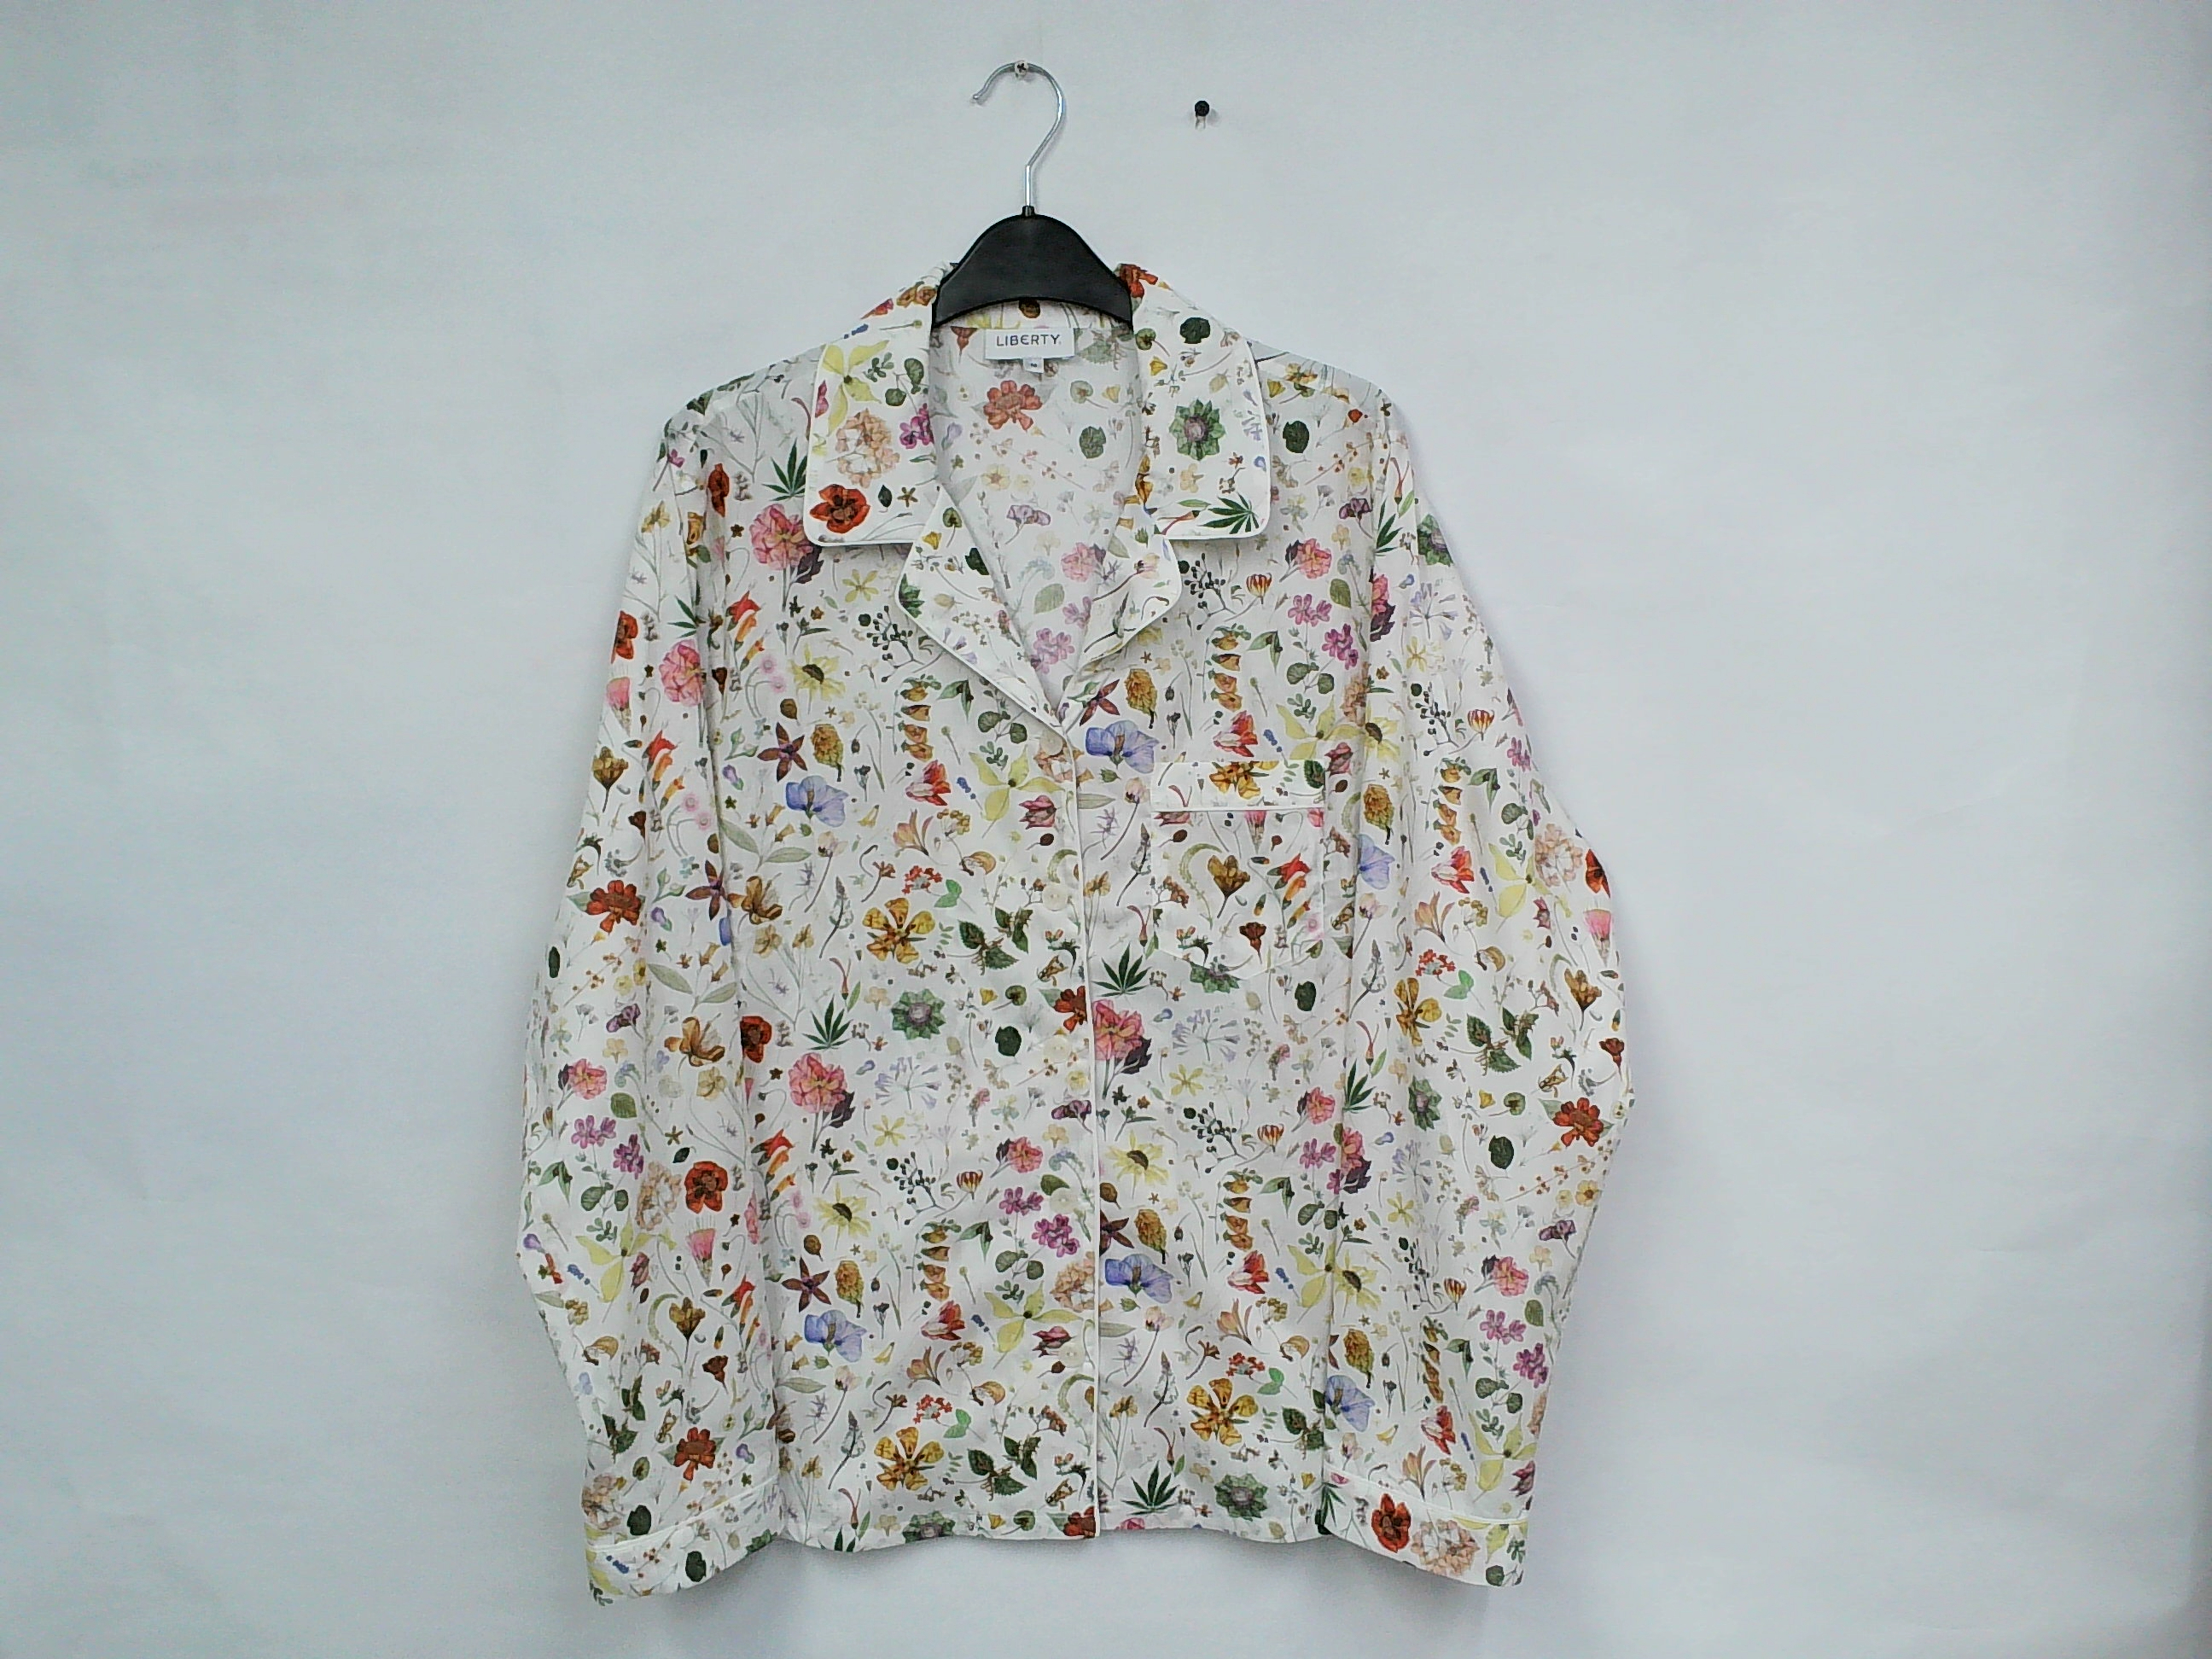deformation: (1022, 544, 1188, 742)
